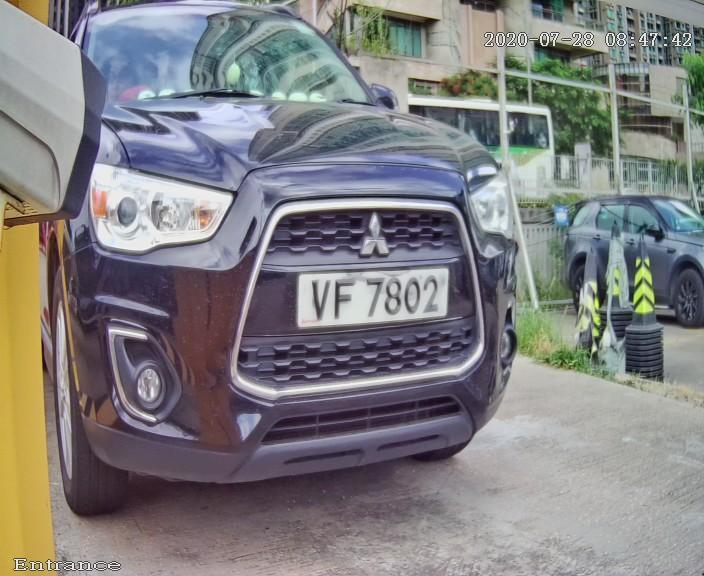privatecar: (13, 13, 610, 515)
